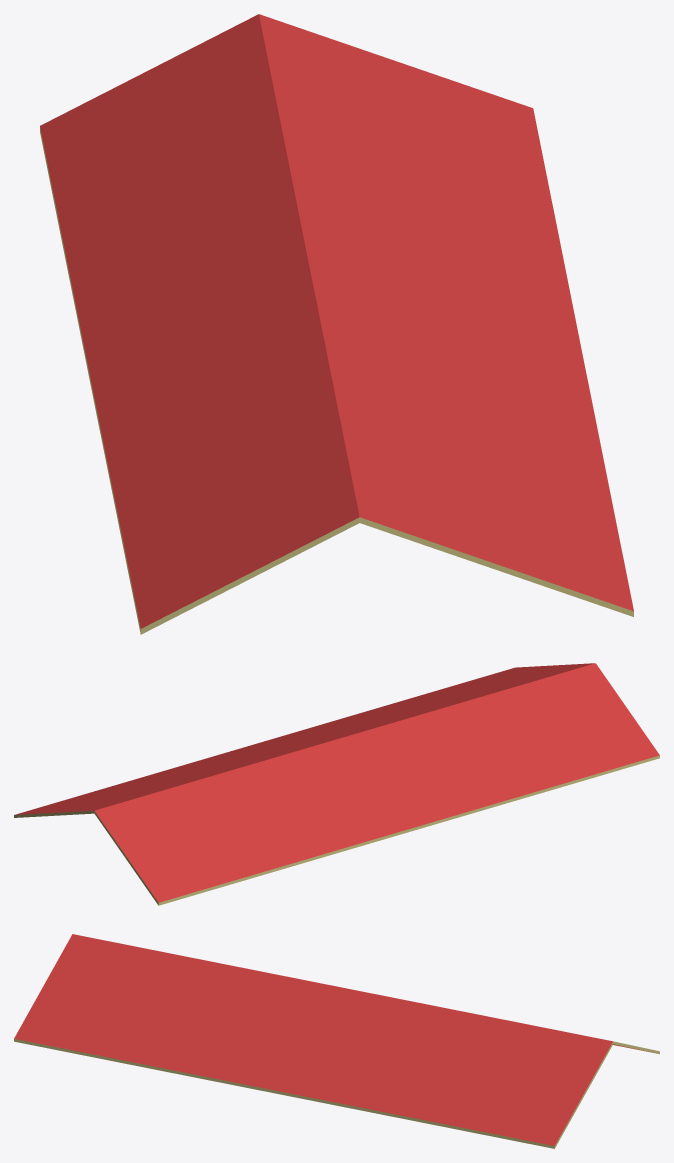
3 views of the same model, one above another, from view 1: azimuth 30°, elevation 25°; view 2: azimuth 150°, elevation 25°; view 3: azimuth 270°, elevation 25° (orthographic). The views are drawn at different scales.
Size of the model in its own units: 14.84 by 20.05 by 1.88.
